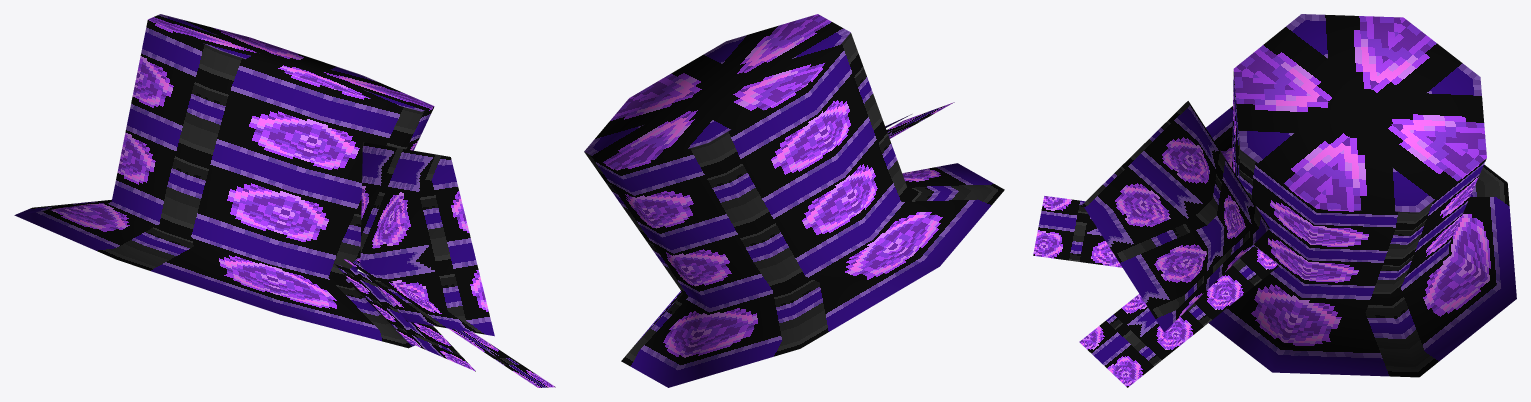
File: code_head77.gltf
The picture shows the model from 3 angles, left to right: view 1: azimuth 30°, elevation 25°; view 2: azimuth 150°, elevation 25°; view 3: azimuth 270°, elevation 25°; orthographic projection. The views are drawn at different scales.
Parts seen in each view (by area): view 1: code_head77; view 2: code_head77; view 3: code_head77.
Boxes of the visible parts, bbox=[...] form: code_head77: bbox=[14, 14, 555, 387]; code_head77: bbox=[584, 14, 1004, 387]; code_head77: bbox=[1033, 14, 1516, 387].
Bounding box in the file's own units: 0.5889 × 0.4946 × 0.7461.
1 material, 1 textured.
